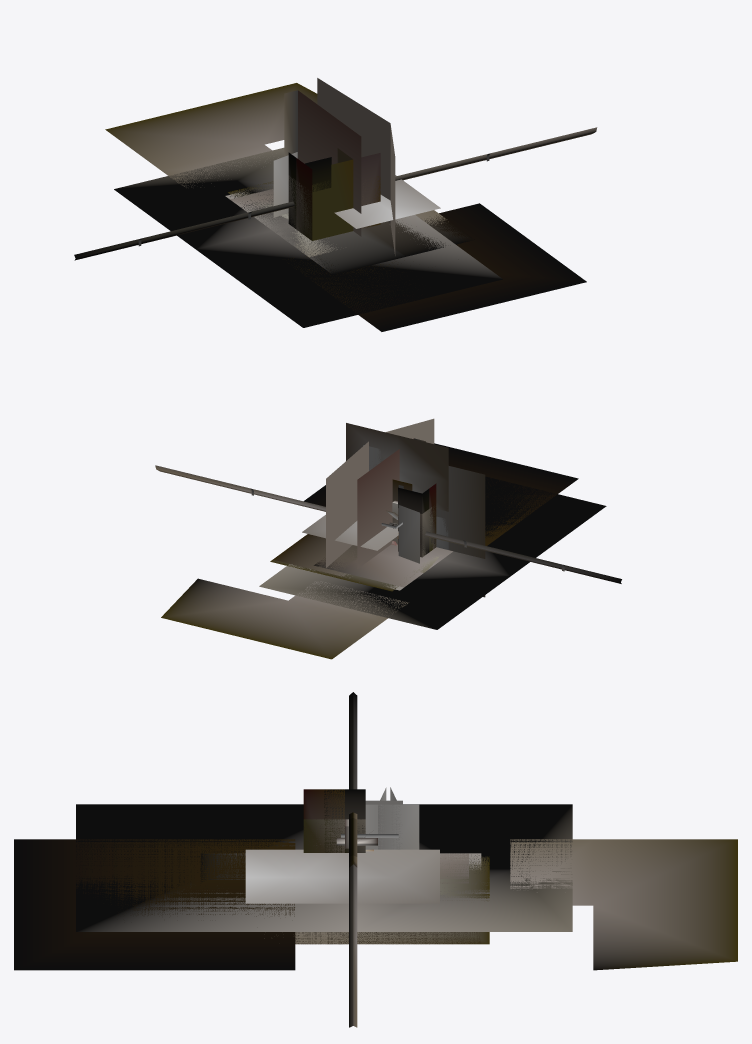
Rendered from backstage_parking_lot.glb.
3 renders of one model, top to bottom at view 1: azimuth 30°, elevation 25°; view 2: azimuth 150°, elevation 25°; view 3: azimuth 270°, elevation 25°, orthographic. The views are drawn at different scales.
Visible parts, largest first — view 1: 0x71f_Backstage_Parking_Lot_Floor_Section_In_Front_Of_Shutte, 0x720_Backstage_Parking_Lot_Floor_Farthest_Right_Section_Und, 0x721_Backstage_Parking_Lot_Floor_Nearest_Left_Section, 0x729_Backstage_Parking_Lot_Wall_Right_Of_Pillar_Behind_Mesh, 0x719_Backstage_Parking_Lot_Exit_Door_2_Can_t_Be_Seen_closed, 0x73b_Backstage_Parking_Lot_Pipe_On_Ceiling_Left_Angled_Sect, 0x742_Backstage_Parking_Lot_Truck_Chassis, 0x72e_Backstage_Parking_Lot_Pillar_Next_To_Truck_Bottom_Faci, 0x733_Backstage_Parking_Lot_Pillar_Between_Mesh_Top_Face, 0x71d_Backstage_Parking_Lot_Exit_Sign_Above_Door, 0x72a_Backstage_Parking_Lot_City_Lights_Surface_Behind_Shutt, 0x734_Backstage_Parking_Lot_Pillar_Between_Mesh_Top_Sides (+5 smaller); view 2: 0x71f_Backstage_Parking_Lot_Floor_Section_In_Front_Of_Shutte, 0x720_Backstage_Parking_Lot_Floor_Farthest_Right_Section_Und, 0x726_Backstage_Parking_Lot_Light_Above_Exit_Door, 0x729_Backstage_Parking_Lot_Wall_Right_Of_Pillar_Behind_Mesh, 0x727_Backstage_Parking_Lot_Left_Side_Mesh_Both_Sections, 0x719_Backstage_Parking_Lot_Exit_Door_2_Can_t_Be_Seen_closed, 0x71e_Backstage_Parking_Lot_Floor_Section_In_Front_Of_Exit_D, 0x73b_Backstage_Parking_Lot_Pipe_On_Ceiling_Left_Angled_Sect, 0x721_Backstage_Parking_Lot_Floor_Nearest_Left_Section, 0x716_Backstage_Parking_Lot_Exit_Door_1, 0x742_Backstage_Parking_Lot_Truck_Chassis, 0x71d_Backstage_Parking_Lot_Exit_Sign_Above_Door (+2 smaller); view 3: 0x720_Backstage_Parking_Lot_Floor_Farthest_Right_Section_Und, 0x71f_Backstage_Parking_Lot_Floor_Section_In_Front_Of_Shutte, 0x742_Backstage_Parking_Lot_Truck_Chassis, 0x71d_Backstage_Parking_Lot_Exit_Sign_Above_Door, 0x721_Backstage_Parking_Lot_Floor_Nearest_Left_Section, 0x73b_Backstage_Parking_Lot_Pipe_On_Ceiling_Left_Angled_Sect, 0x715_Backstage_Parking_Lot_Road_Cone_Nearest_Right_Of_Orang, 0x733_Backstage_Parking_Lot_Pillar_Between_Mesh_Top_Face, 0x735_Backstage_Parking_Lot_Pillar_Between_Mesh_Bottom_Face, 0x737_Backstage_Parking_Lot_Pillar_Behind_Mesh_Face_Top_Sect, 0x71e_Backstage_Parking_Lot_Floor_Section_In_Front_Of_Exit_D, 0x717_Backstage_Parking_Lot_Exit_Door_1_closed (+1 smaller).
Part boxes in pixels (box(x1,y1,x2,y2)): 0x71f_Backstage_Parking_Lot_Floor_Section_In_Front_Of_Shutte: box(114, 147, 502, 327); 0x720_Backstage_Parking_Lot_Floor_Farthest_Right_Section_Und: box(105, 83, 586, 331); 0x721_Backstage_Parking_Lot_Floor_Nearest_Left_Section: box(225, 192, 474, 274); 0x729_Backstage_Parking_Lot_Wall_Right_Of_Pillar_Behind_Mesh: box(317, 78, 395, 255); 0x719_Backstage_Parking_Lot_Exit_Door_2_Can_t_Be_Seen_closed: box(298, 90, 361, 236); 0x73b_Backstage_Parking_Lot_Pipe_On_Ceiling_Left_Angled_Sect: box(74, 127, 597, 260); 0x742_Backstage_Parking_Lot_Truck_Chassis: box(334, 175, 440, 228); 0x72e_Backstage_Parking_Lot_Pillar_Next_To_Truck_Bottom_Faci: box(331, 159, 353, 236); 0x733_Backstage_Parking_Lot_Pillar_Between_Mesh_Top_Face: box(296, 158, 312, 239); 0x71d_Backstage_Parking_Lot_Exit_Sign_Above_Door: box(228, 181, 448, 257); 0x72a_Backstage_Parking_Lot_City_Lights_Surface_Behind_Shutt: box(361, 153, 380, 228); 0x734_Backstage_Parking_Lot_Pillar_Between_Mesh_Top_Sides: box(312, 188, 331, 240); 0x71f_Backstage_Parking_Lot_Floor_Section_In_Front_Of_Shutte: box(259, 476, 606, 629); 0x720_Backstage_Parking_Lot_Floor_Farthest_Right_Section_Und: box(161, 443, 578, 659); 0x726_Backstage_Parking_Lot_Light_Above_Exit_Door: box(346, 423, 448, 549); 0x729_Backstage_Parking_Lot_Wall_Right_Of_Pillar_Behind_Mesh: box(326, 418, 434, 567); 0x727_Backstage_Parking_Lot_Left_Side_Mesh_Both_Sections: box(363, 445, 485, 597); 0x719_Backstage_Parking_Lot_Exit_Door_2_Can_t_Be_Seen_closed: box(357, 438, 413, 568); 0x71e_Backstage_Parking_Lot_Floor_Section_In_Front_Of_Exit_D: box(314, 544, 452, 587); 0x73b_Backstage_Parking_Lot_Pipe_On_Ceiling_Left_Angled_Sect: box(155, 465, 621, 583); 0x721_Backstage_Parking_Lot_Floor_Nearest_Left_Section: box(273, 534, 409, 590); 0x716_Backstage_Parking_Lot_Exit_Door_1: box(398, 505, 419, 563); 0x742_Backstage_Parking_Lot_Truck_Chassis: box(302, 515, 398, 550); 0x71d_Backstage_Parking_Lot_Exit_Sign_Above_Door: box(270, 555, 441, 591); 0x720_Backstage_Parking_Lot_Floor_Farthest_Right_Section_Und: box(14, 839, 737, 970); 0x71f_Backstage_Parking_Lot_Floor_Section_In_Front_Of_Shutte: box(76, 804, 572, 931); 0x742_Backstage_Parking_Lot_Truck_Chassis: box(245, 849, 439, 903); 0x71d_Backstage_Parking_Lot_Exit_Sign_Above_Door: box(264, 856, 489, 944); 0x721_Backstage_Parking_Lot_Floor_Nearest_Left_Section: box(200, 853, 481, 944); 0x73b_Backstage_Parking_Lot_Pipe_On_Ceiling_Left_Angled_Sect: box(349, 692, 357, 1027); 0x715_Backstage_Parking_Lot_Road_Cone_Nearest_Right_Of_Orang: box(378, 804, 419, 849); 0x733_Backstage_Parking_Lot_Pillar_Between_Mesh_Top_Face: box(303, 789, 344, 848); 0x735_Backstage_Parking_Lot_Pillar_Between_Mesh_Bottom_Face: box(303, 819, 344, 852); 0x737_Backstage_Parking_Lot_Pillar_Behind_Mesh_Face_Top_Sect: box(324, 789, 365, 848); 0x71e_Backstage_Parking_Lot_Floor_Section_In_Front_Of_Exit_D: box(440, 853, 468, 887); 0x717_Backstage_Parking_Lot_Exit_Door_1_closed: box(365, 804, 398, 849).
Size of the model in its own units: 23.89 by 7.72 by 21.44.
